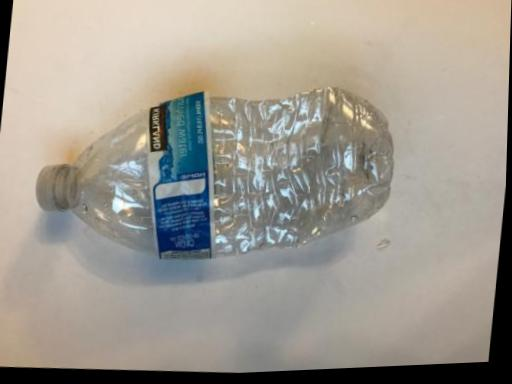plastic: (17, 58, 403, 279)
